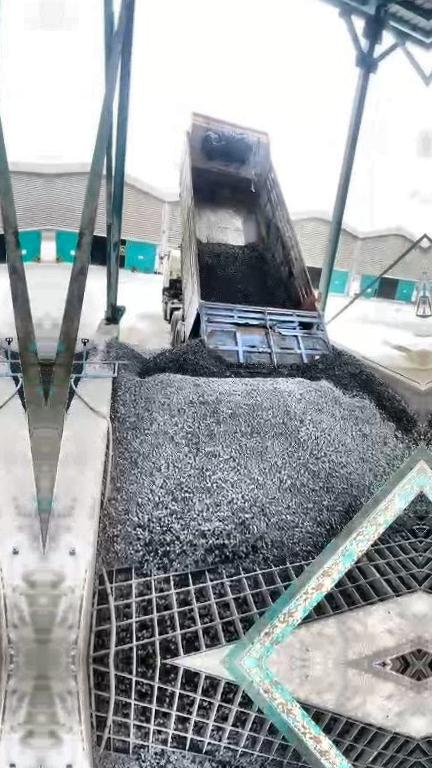gravel: (99, 335, 422, 570), (199, 242, 295, 308), (394, 491, 421, 530)
sand: (381, 338, 423, 383)
